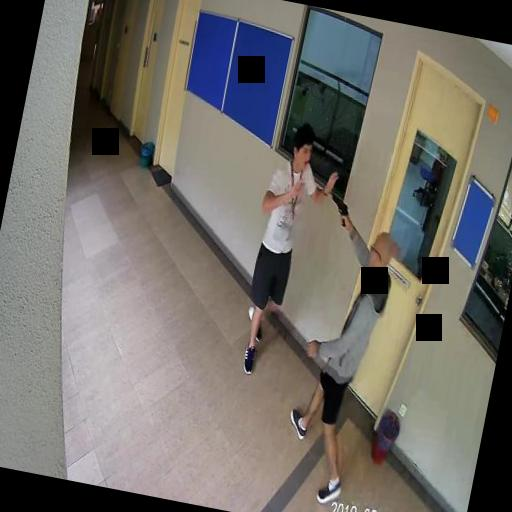Handgun: (326, 192, 352, 226)
